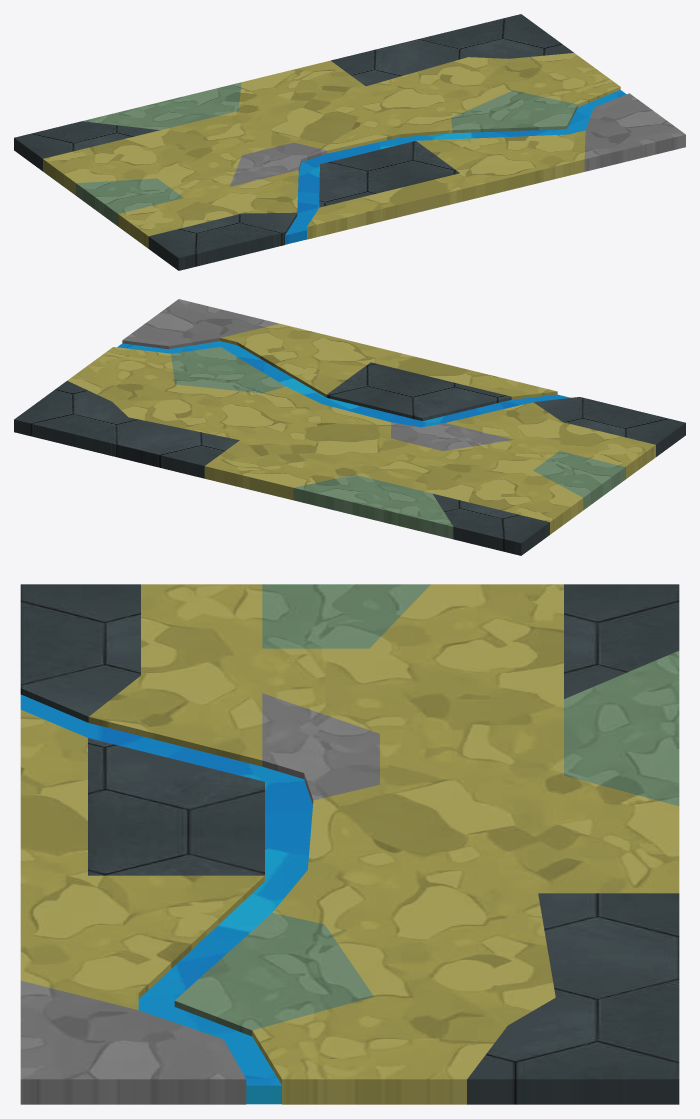
File: MapTile.fbx
3 views of the same model, one above another, from view 1: azimuth 30°, elevation 25°; view 2: azimuth 150°, elevation 25°; view 3: azimuth 270°, elevation 25° (orthographic). The views are drawn at different scales.
Visible parts, largest first — view 1: Farm, Farm.007, Farm.005, Farm.001, Urban.006, Urban.005, Mountain.007, Farm.003, Farm.006, River.001, Farm.008, Farm.004 (+8 smaller); view 2: Farm, Farm.006, Farm.007, Urban.005, Farm.001, Forest.003, Farm.005, Farm.003, Urban.008, Urban.002, Mountain.007, Urban.006 (+8 smaller); view 3: Farm, Farm.007, Farm.001, Farm.005, Mountain.007, Urban.005, Farm.008, Urban.002, Farm.006, Farm.003, River.001, Farm.004 (+8 smaller).
Boxes of the visible parts, left/top/right/bottom form: Farm: left=307, top=130, right=585, bottom=239; Farm.007: left=358, top=57, right=512, bottom=117; Farm.005: left=278, top=99, right=452, bottom=153; Farm.001: left=118, top=170, right=298, bottom=248; Urban.006: left=148, top=212, right=297, bottom=270; Urban.005: left=319, top=141, right=459, bottom=207; Mountain.007: left=584, top=93, right=685, bottom=171; Farm.003: left=43, top=130, right=186, bottom=195; Farm.006: left=238, top=60, right=365, bottom=118; River.001: left=285, top=90, right=626, bottom=244; Farm.008: left=509, top=53, right=620, bottom=107; Farm.004: left=161, top=111, right=293, bottom=154; Farm: left=220, top=324, right=557, bottom=399; Farm.006: left=204, top=436, right=354, bottom=500; Farm.007: left=112, top=384, right=270, bottom=440; Urban.005: left=326, top=362, right=511, bottom=421; Farm.001: left=446, top=402, right=655, bottom=478; Forest.003: left=293, top=474, right=453, bottom=539; Farm.005: left=261, top=387, right=391, bottom=455; Farm.003: left=432, top=470, right=583, bottom=534; Urban.008: left=97, top=417, right=239, bottom=478; Urban.002: left=14, top=381, right=128, bottom=452; Mountain.007: left=122, top=299, right=279, bottom=349; Urban.006: left=533, top=397, right=685, bottom=456; Farm: left=20, top=710, right=264, bottom=1010; Farm.007: left=325, top=874, right=555, bottom=1025; Farm.001: left=88, top=584, right=262, bottom=766; Farm.005: left=272, top=784, right=492, bottom=924; Mountain.007: left=20, top=980, right=246, bottom=1104; Urban.005: left=88, top=738, right=264, bottom=875; Farm.008: left=252, top=996, right=507, bottom=1104; Urban.002: left=467, top=997, right=679, bottom=1104; Farm.006: left=493, top=775, right=679, bottom=893; Farm.003: left=369, top=584, right=563, bottom=699; River.001: left=20, top=694, right=312, bottom=1104; Farm.004: left=380, top=699, right=563, bottom=796.
Bounding box in the file's own units: 192000 × 4564 × 108000.
Materials: 5 (5 with a texture image).
